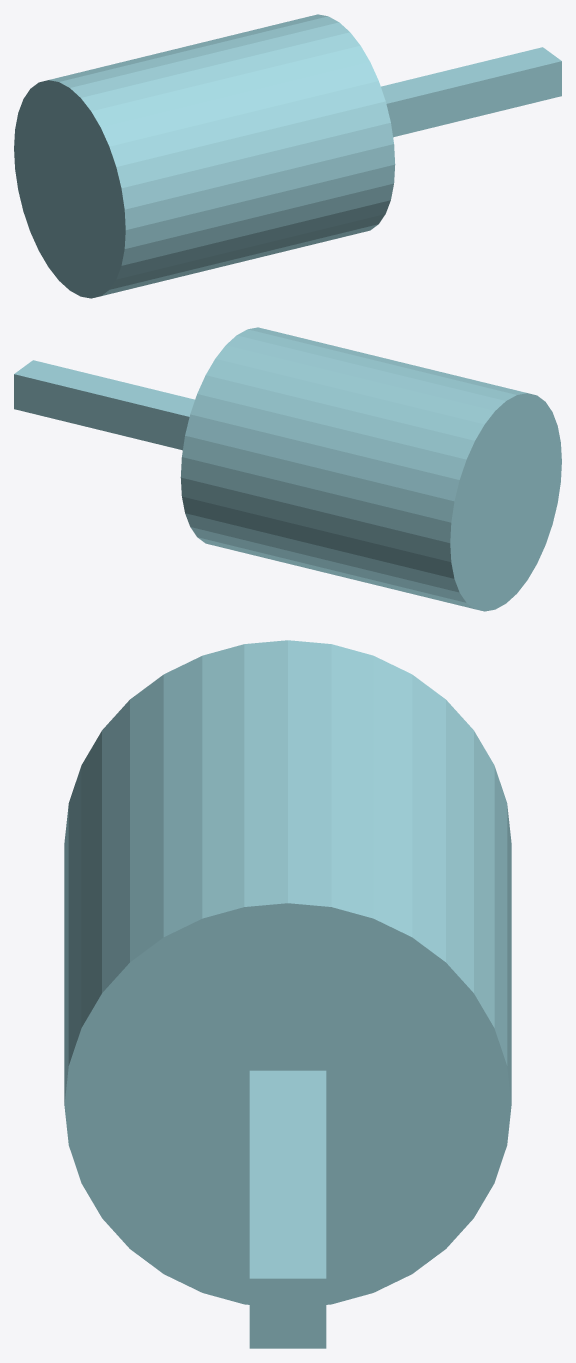
Rendered from cylinder_screwdriver_v3002.obj.
3 renders of one model, top to bottom at view 1: azimuth 30°, elevation 25°; view 2: azimuth 150°, elevation 25°; view 3: azimuth 270°, elevation 25°, orthographic. The views are drawn at different scales.
Bounding box in the file's own units: 0.1829 × 0.0734 × 0.0734.
1 material, 1 textured.
